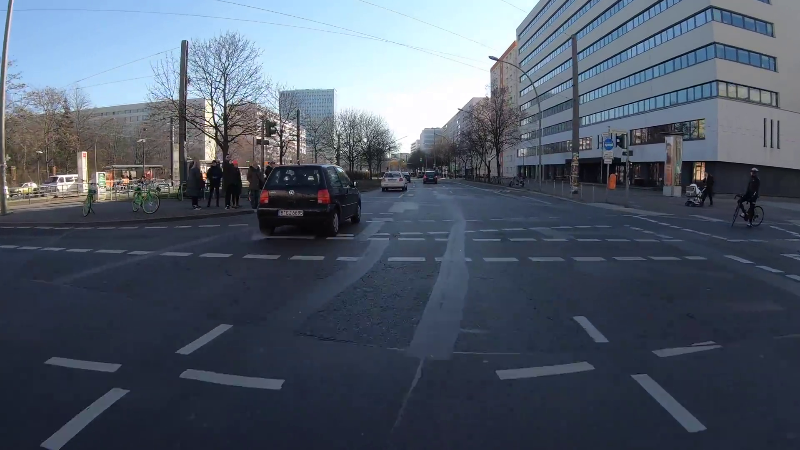Plate: (274, 208, 305, 217)
